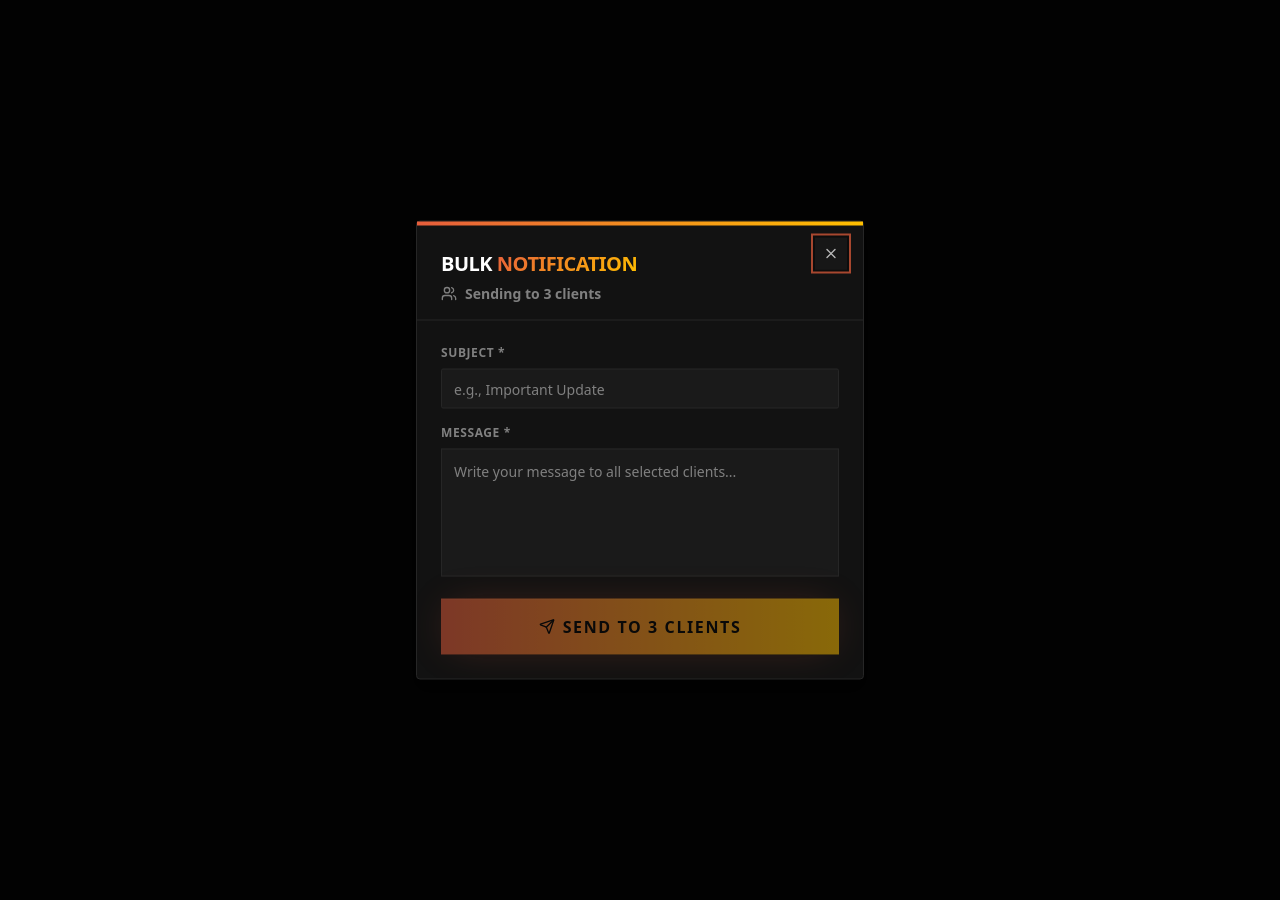
BulkNotificationModal Component › Form Submission › shows loading state during submission
The width and height of the screenshot is (1280, 900).
Type "Test title" into the field with test id "title-input".
click(640, 388); type("Test title")  # box [441, 368, 839, 408]
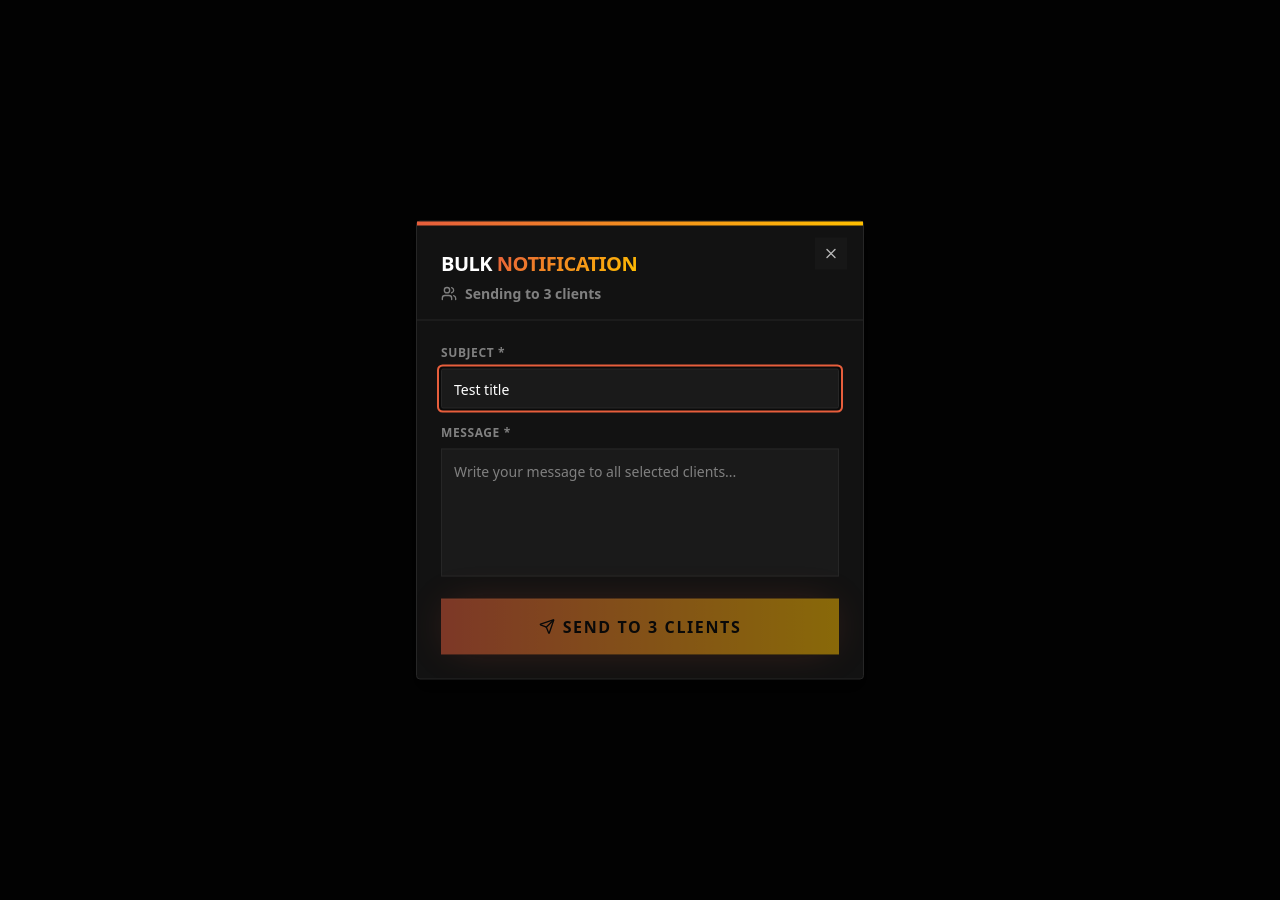
Type "Test message" into the text box with test id "message-input".
click(640, 512); type("Test message")  # box [441, 448, 839, 576]
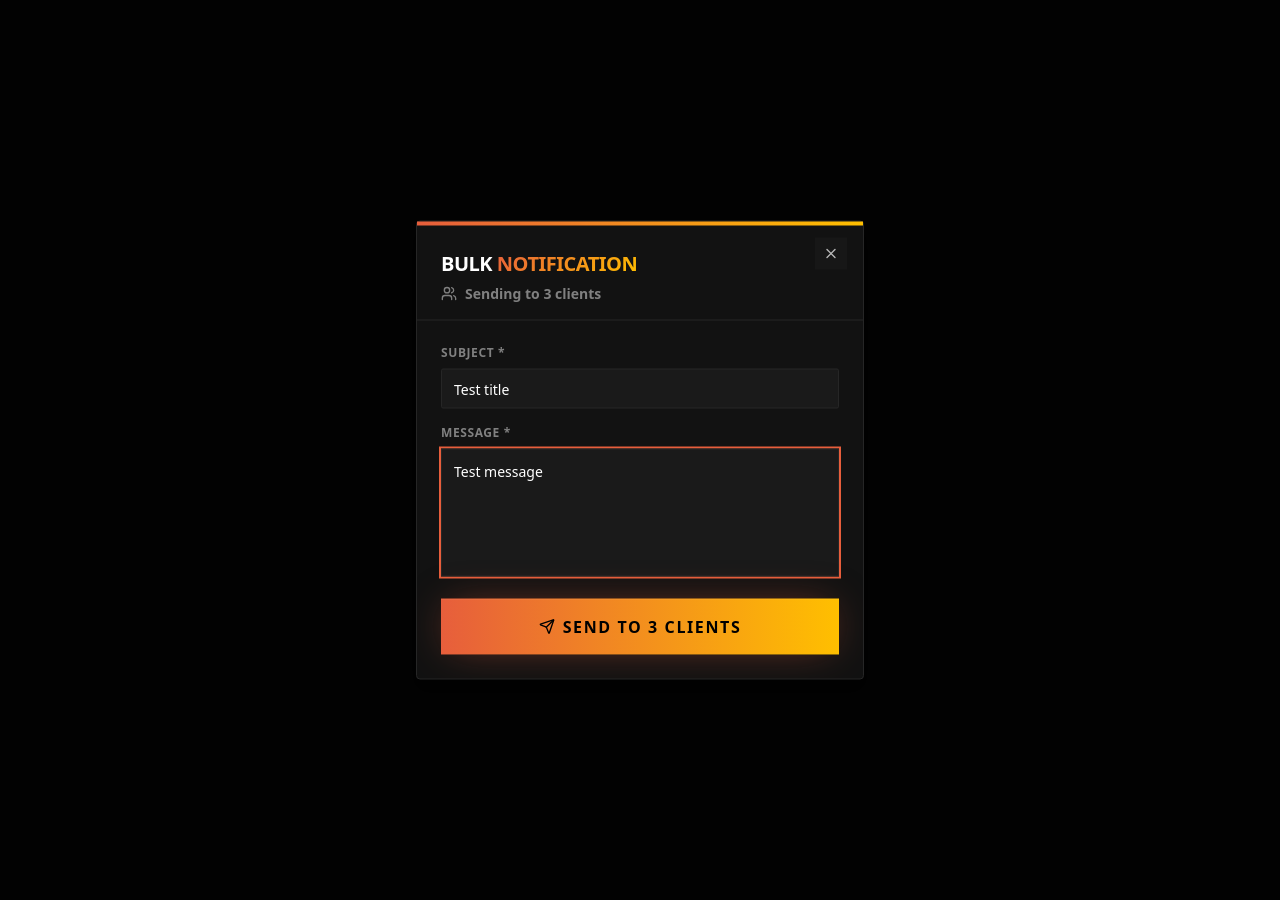
Click the button with test id "submit-button".
click(640, 626)  # box [441, 598, 839, 654]
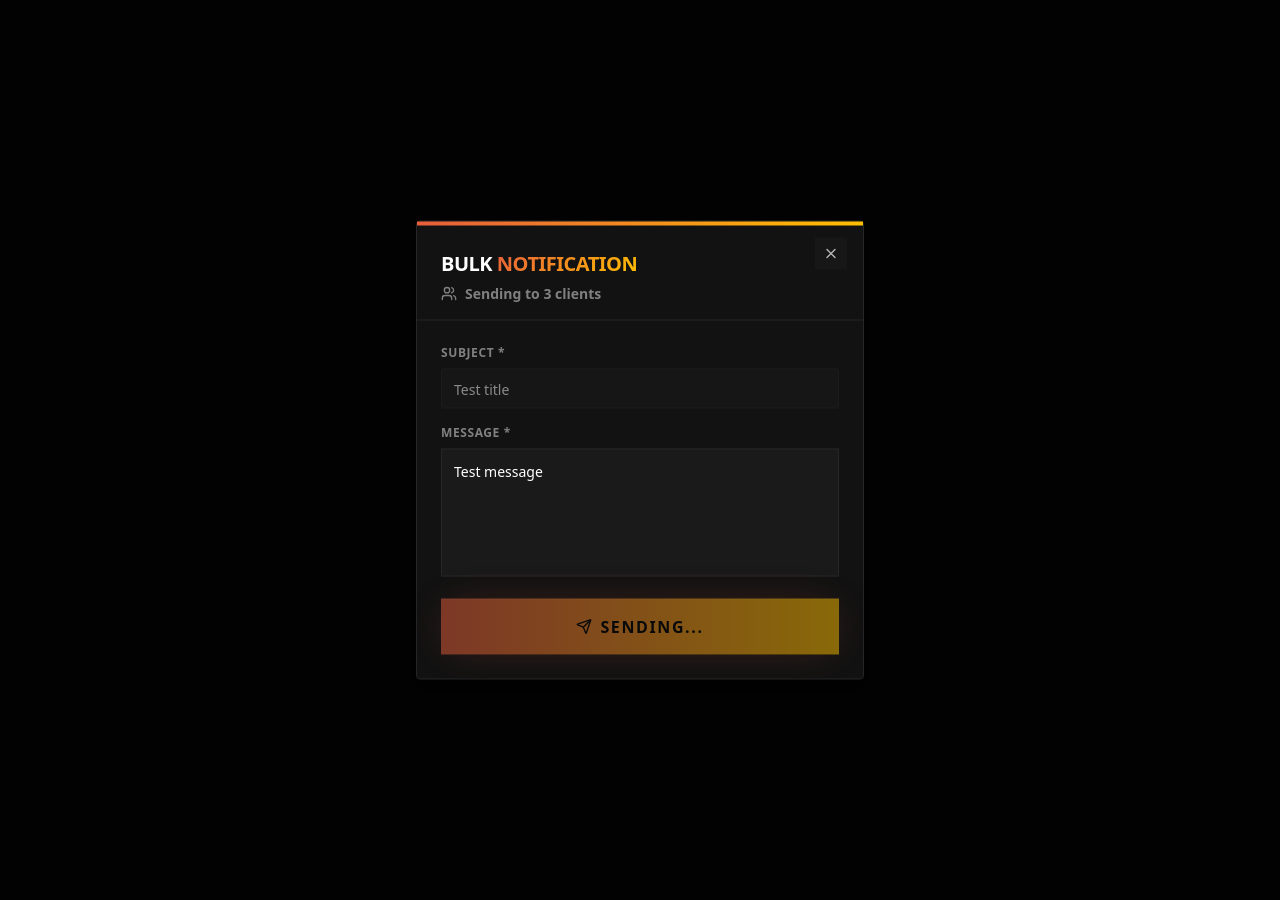
Result: the button with test id "submit-button" reads "Sending..." at [441, 598, 839, 654]
